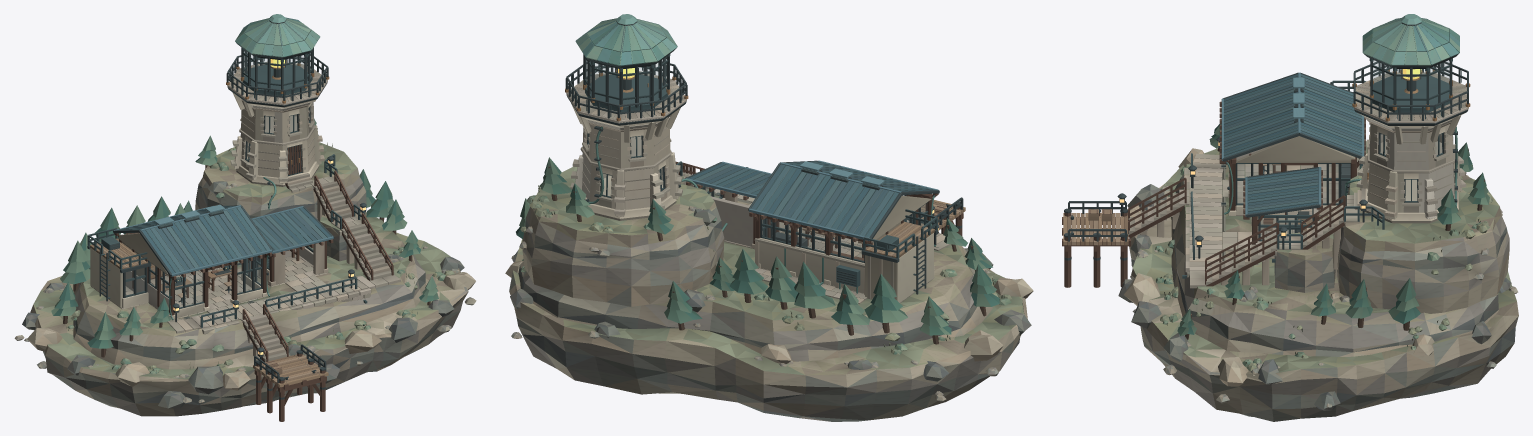
Rendered from uptime.glb.
3 views of the same model, side by side, from view 1: azimuth 30°, elevation 25°; view 2: azimuth 150°, elevation 25°; view 3: azimuth 270°, elevation 25° (orthographic). The views are drawn at different scales.
Visible parts, largest first — view 1: Uptime — The Vigil Station; view 2: Uptime — The Vigil Station; view 3: Uptime — The Vigil Station.
Boxes of the visible parts, x1,y1,x2,y2 form: Uptime — The Vigil Station: [14, 14, 476, 421]; Uptime — The Vigil Station: [505, 14, 1033, 421]; Uptime — The Vigil Station: [1062, 14, 1518, 421].
Size of the model in its own units: 23.75 by 15.96 by 18.85.
4 materials, 1 textured.
